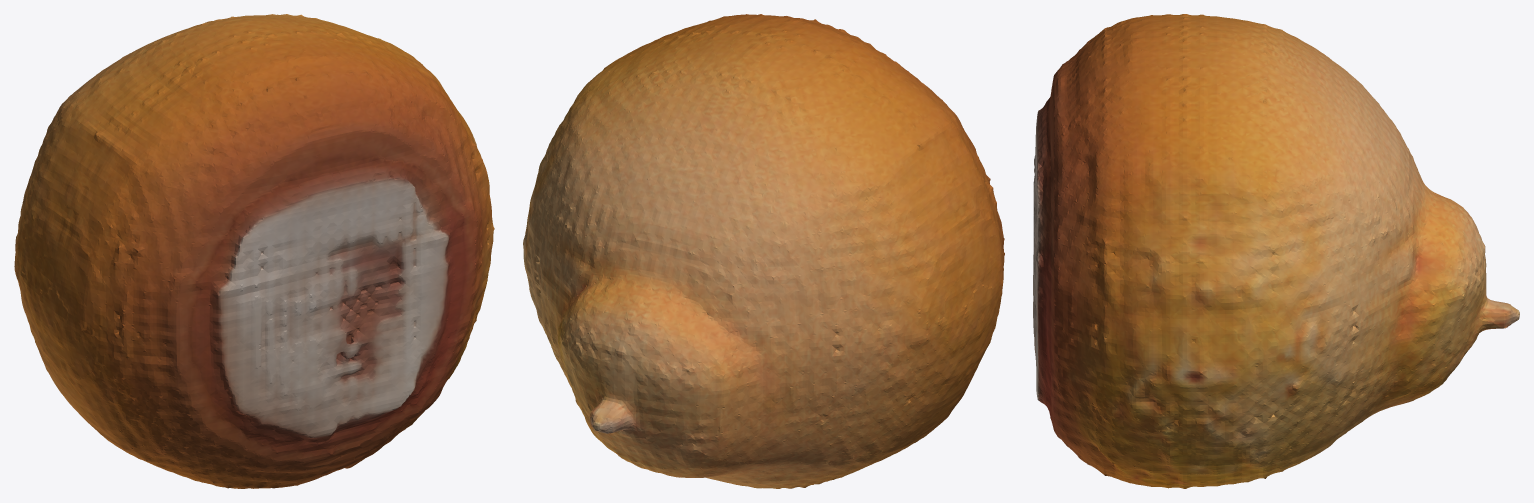
Rendered from obj1_scaled.glb.
3 views of the same model, side by side, from view 1: azimuth 30°, elevation 25°; view 2: azimuth 150°, elevation 25°; view 3: azimuth 270°, elevation 25° (orthographic).
Visible parts, largest first — view 1: world; view 2: world; view 3: world.
Part boxes in pixels (x1=…): world: x1=14, y1=14, x2=494, y2=488; world: x1=523, y1=14, x2=1004, y2=488; world: x1=1033, y1=14, x2=1519, y2=488.
Size of the model in its own units: 0.067 by 0.0647 by 0.0665.
